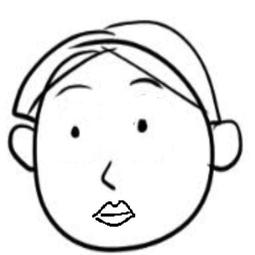cupid_mouth: (88, 196, 142, 229)
ear: (204, 112, 251, 179), (6, 122, 43, 169)
eyebrow: (56, 82, 95, 99), (128, 75, 165, 91)
nose: (94, 153, 125, 192)
small_eye: (128, 110, 156, 136), (66, 119, 85, 141)
